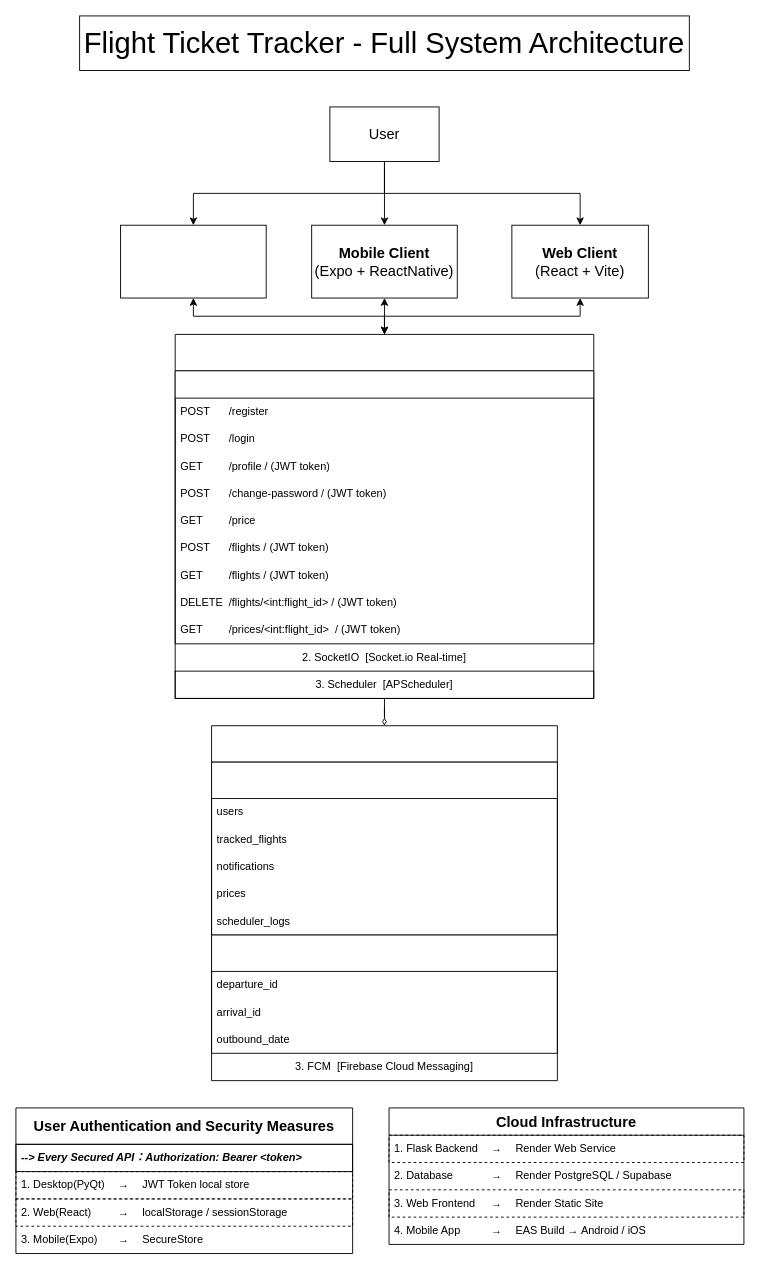
The diagram is 760 pixels wide and 1269 high, and some of its shapes have lost their labels. Each missing label, with the box of its shape:
1. Database [PostgreSQL Database]: (211, 761, 557, 935)
1. Flask RESTful API: (174, 370, 594, 644)
2. External Flight API [RapidAPI]: (211, 934, 557, 1053)
API Layer [Backend]: (174, 334, 594, 698)
Desktop Client (PyQt5): (120, 224, 266, 298)
Services [Infrastructure]: (211, 725, 557, 1081)
